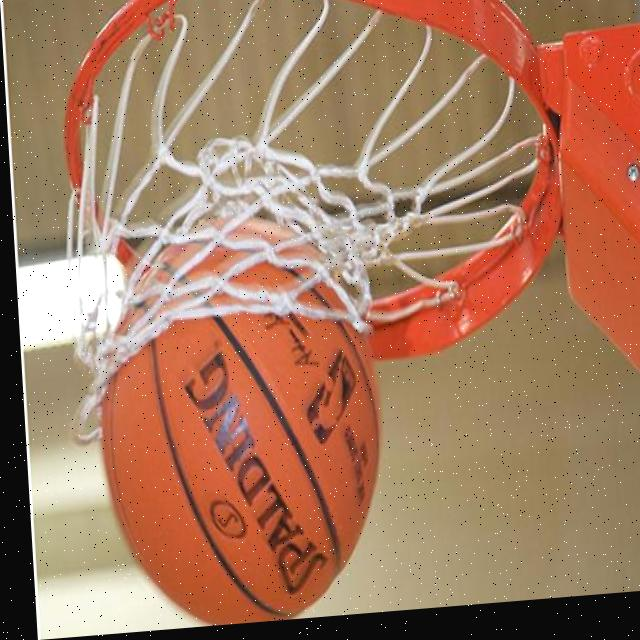Basketball: (87, 204, 392, 634)
hoop: (45, 0, 574, 444)
